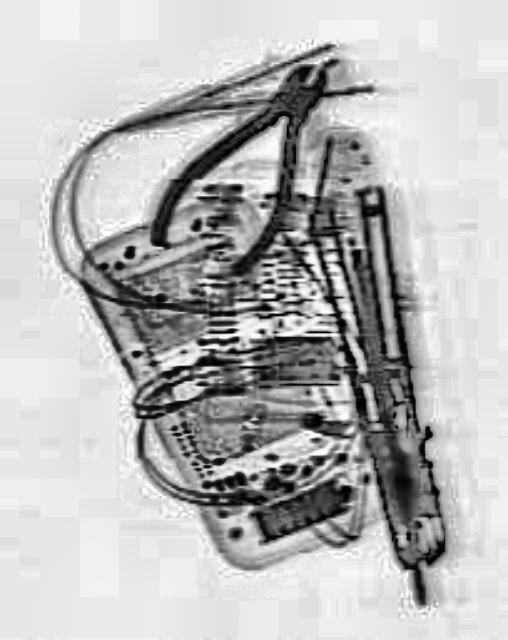Pliers: (138, 21, 352, 302)
